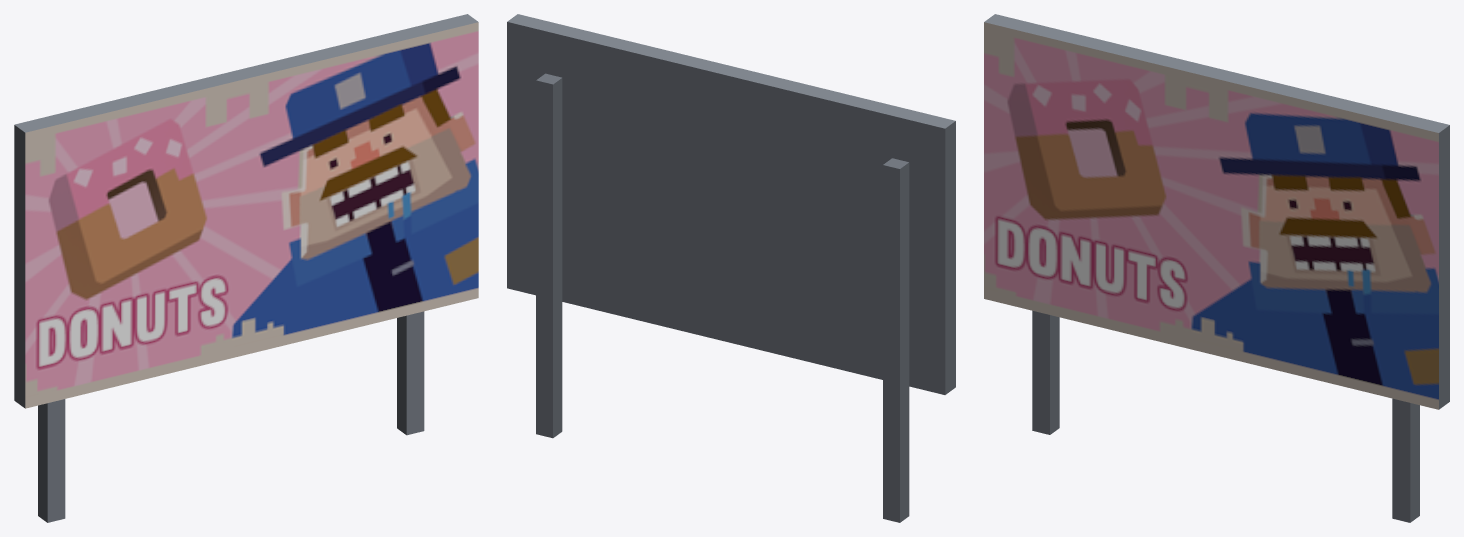
File: SM_Billboard_Stand_03.fbx
3 views of the same model, side by side, from view 1: azimuth 30°, elevation 25°; view 2: azimuth 150°, elevation 25°; view 3: azimuth 330°, elevation 25° (orthographic). The views are drawn at different scales.
Visible parts, largest first — view 1: SM_Billboard_Stand_03; view 2: SM_Billboard_Stand_03; view 3: SM_Billboard_Stand_03.
Boxes of the visible parts, box(x1,y1,x2,y2) form: SM_Billboard_Stand_03: box(14, 14, 478, 522); SM_Billboard_Stand_03: box(507, 14, 955, 522); SM_Billboard_Stand_03: box(984, 14, 1449, 522).
Bounding box in the file's own units: 5.05 × 4.35 × 0.4363.
